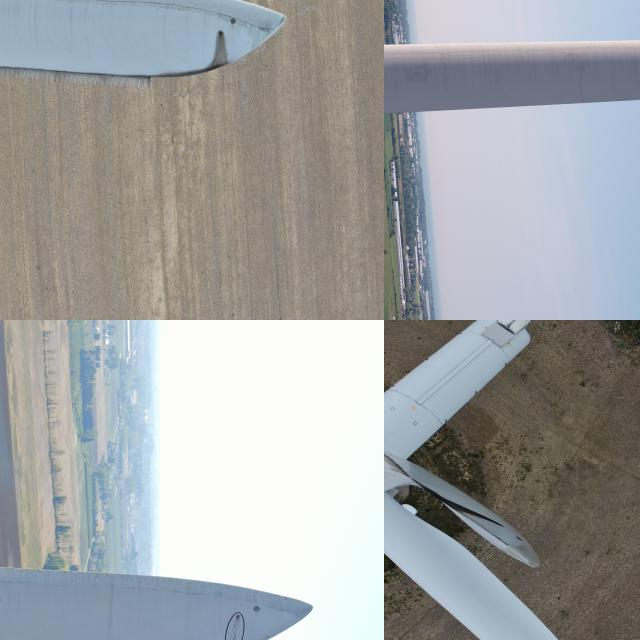damage: (428, 488, 514, 534), (201, 26, 232, 74), (234, 614, 240, 618)
